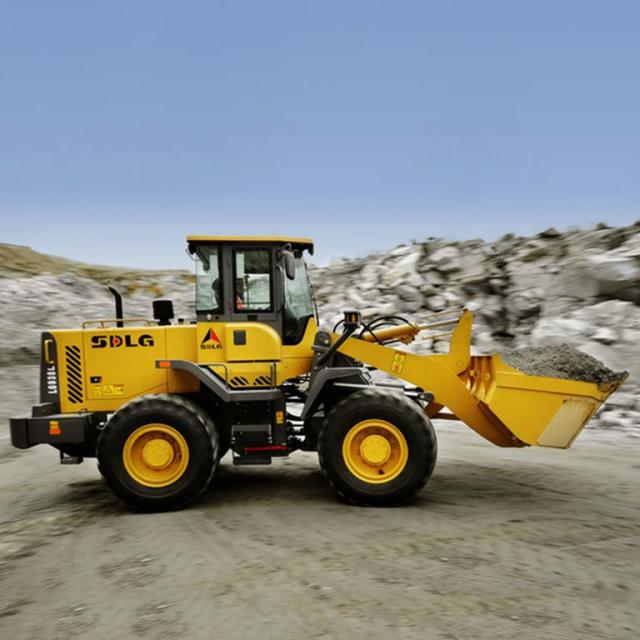buldozerpayloadergrader: (6, 228, 622, 508)
